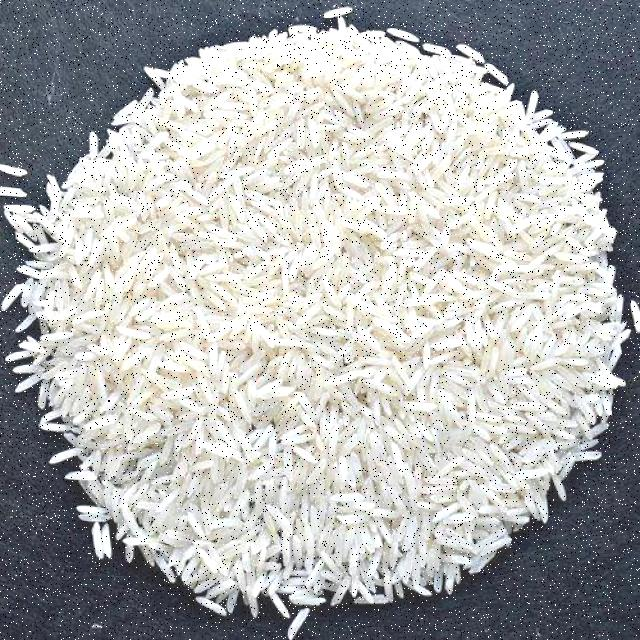Rice: (110, 86, 628, 507)
